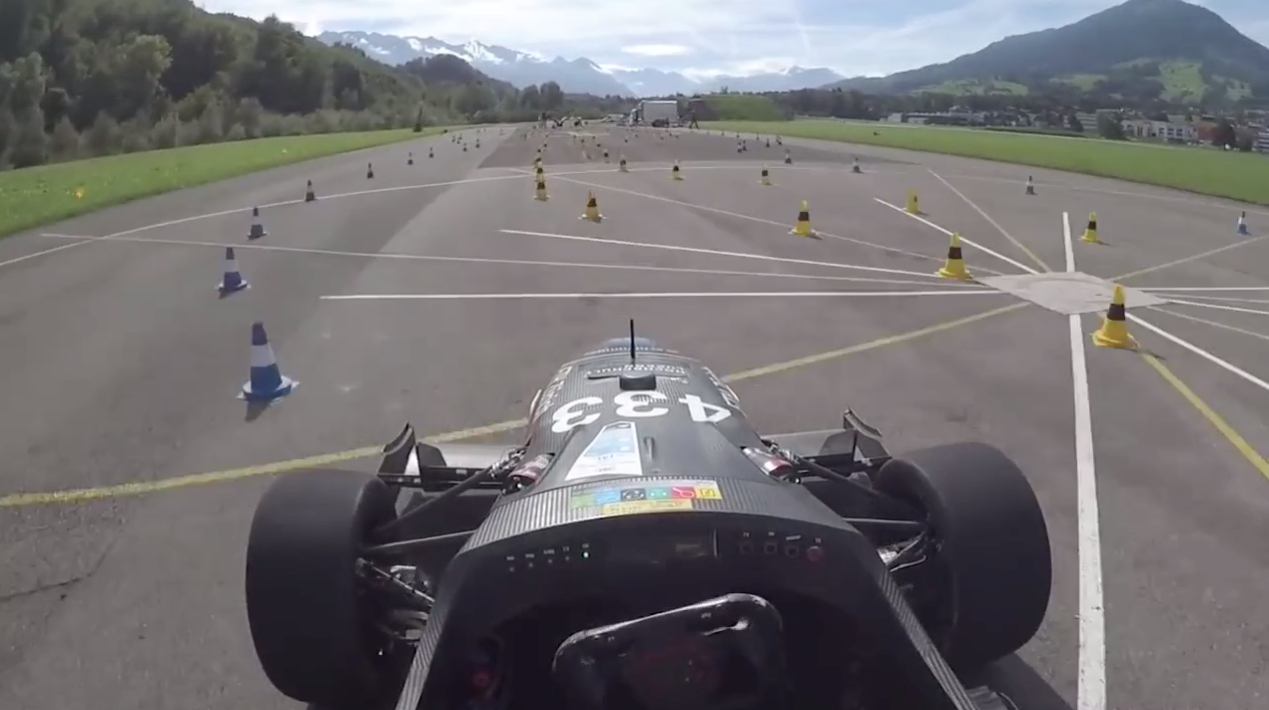lcone: (230, 316, 304, 405), (209, 243, 255, 298), (242, 203, 274, 241)
rcone: (1084, 280, 1143, 353), (930, 228, 977, 286), (790, 196, 819, 240), (1077, 208, 1106, 245), (577, 188, 607, 223)
